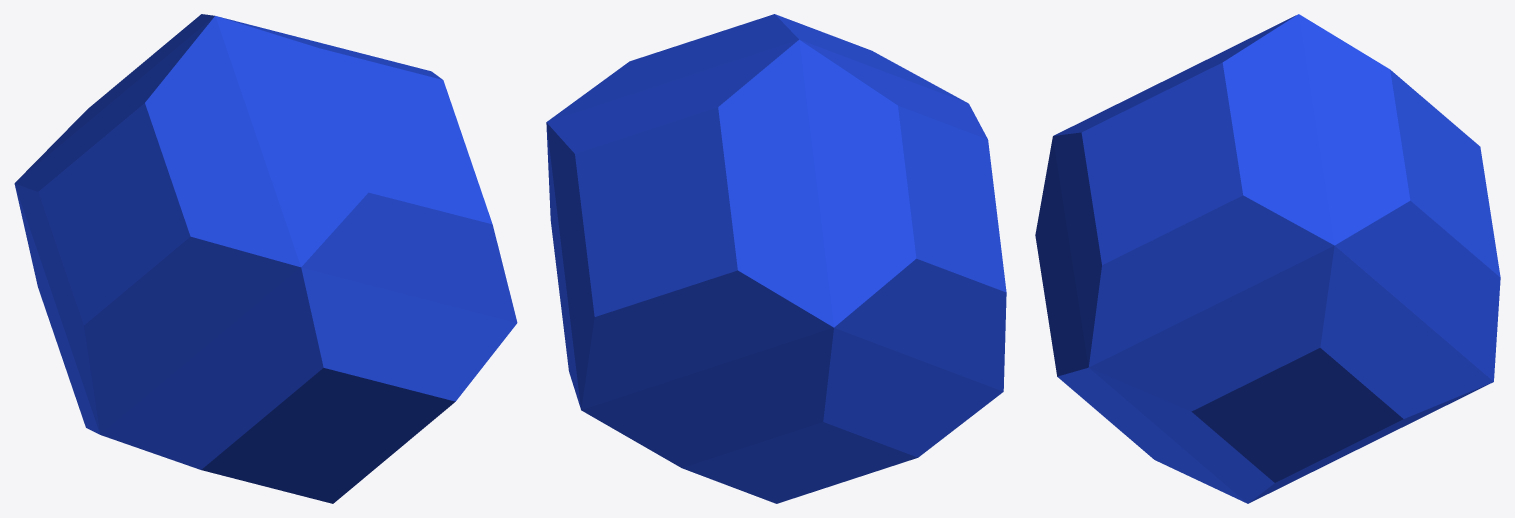
The model's file is ochtaedhronoid_v2.glb.
3 renders of one model, left to right at view 1: azimuth 30°, elevation 25°; view 2: azimuth 150°, elevation 25°; view 3: azimuth 270°, elevation 25°, orthographic. The views are drawn at different scales.
Visible parts, largest first — view 1: Cube; view 2: Cube; view 3: Cube.
Boxes of the visible parts, x1,y1,x2,y2 form: Cube: (14, 14, 517, 503); Cube: (546, 14, 1006, 503); Cube: (1035, 14, 1500, 503).
Size of the model in its own units: 1.53 by 1.69 by 1.57.
